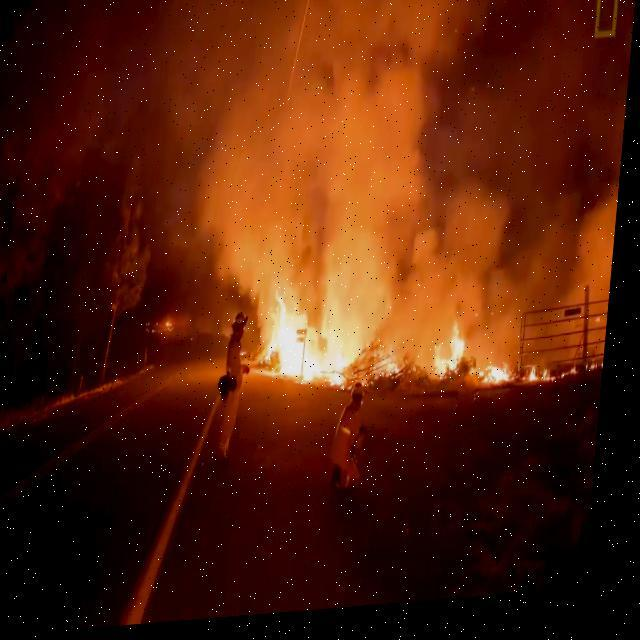Fire: (268, 294, 360, 402), (432, 328, 472, 388), (536, 374, 586, 393), (488, 371, 521, 398)
